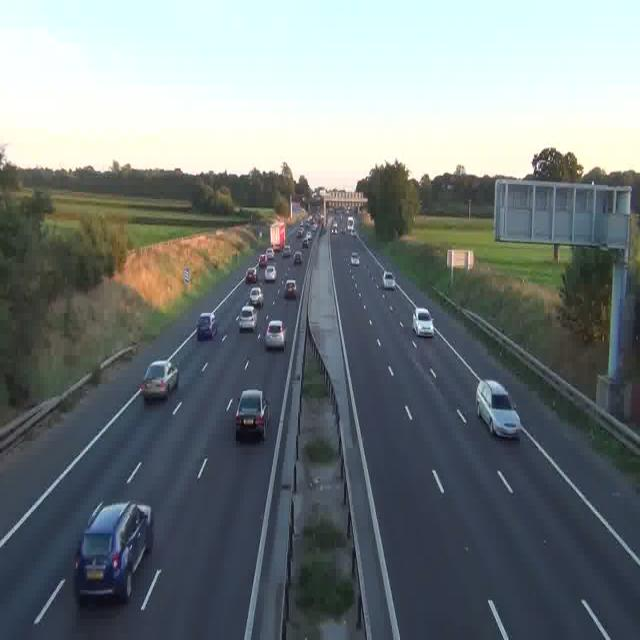car: (74, 502, 152, 603), (475, 379, 520, 438), (235, 388, 268, 441), (142, 359, 179, 400), (412, 307, 434, 337), (197, 312, 218, 340), (266, 321, 286, 348), (238, 303, 258, 330), (248, 288, 264, 308), (285, 277, 298, 298), (382, 270, 396, 289), (263, 264, 275, 281), (245, 266, 257, 282), (294, 252, 304, 266), (258, 253, 268, 266), (276, 245, 286, 258), (351, 252, 360, 265), (332, 226, 338, 236)
truck: (270, 222, 286, 252), (346, 214, 354, 235)
